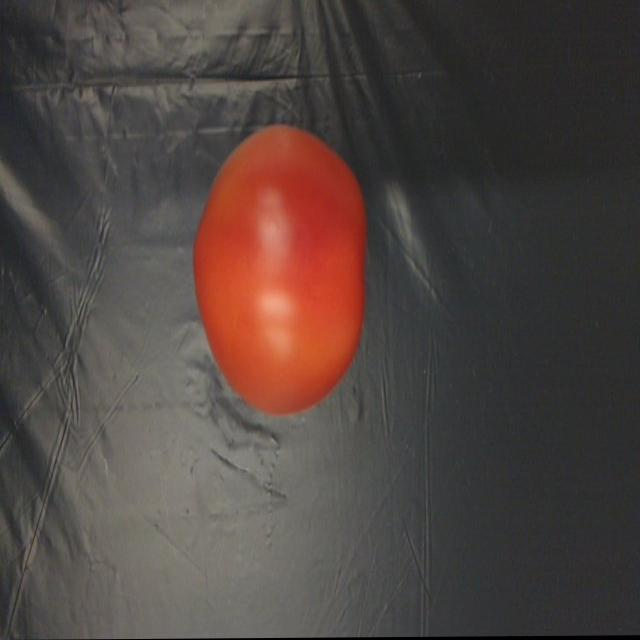kirmizi: (206, 120, 381, 424)
